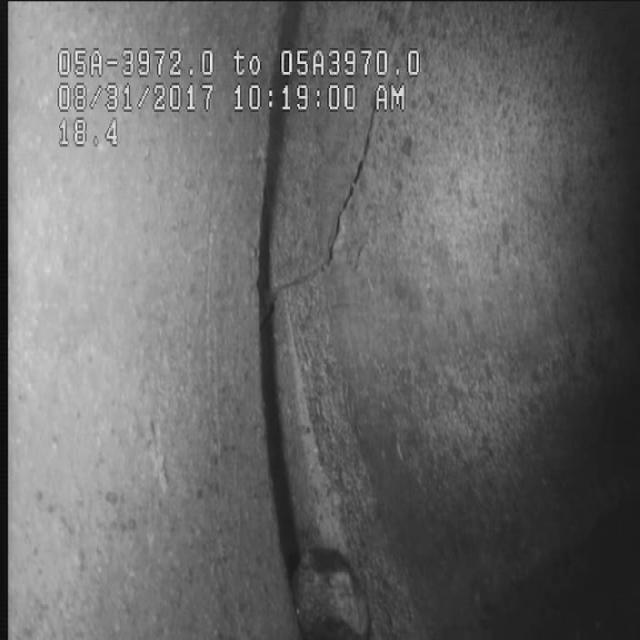Crack: (302, 112, 386, 356)
